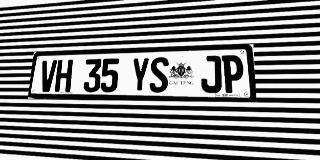3: (83, 59, 102, 92)
5: (100, 58, 119, 92)
H: (54, 60, 73, 92)
J: (201, 55, 222, 93)
P: (222, 55, 244, 93)
S: (149, 57, 169, 93)
V: (39, 60, 57, 92)
Y: (130, 57, 150, 92)
